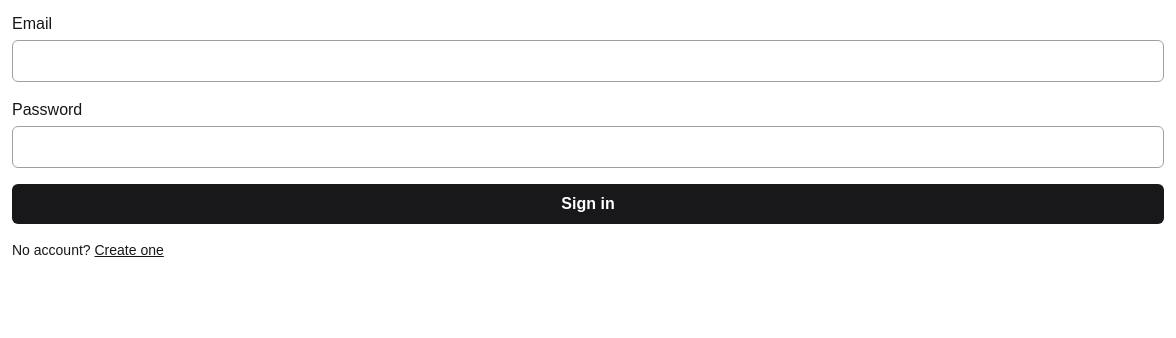
Test case: LoginForm › shows a friendly per-network message when rate limited
Type "ada@example.com" into the field labelled "Email" at (588, 61), box [12,40,1164,82]
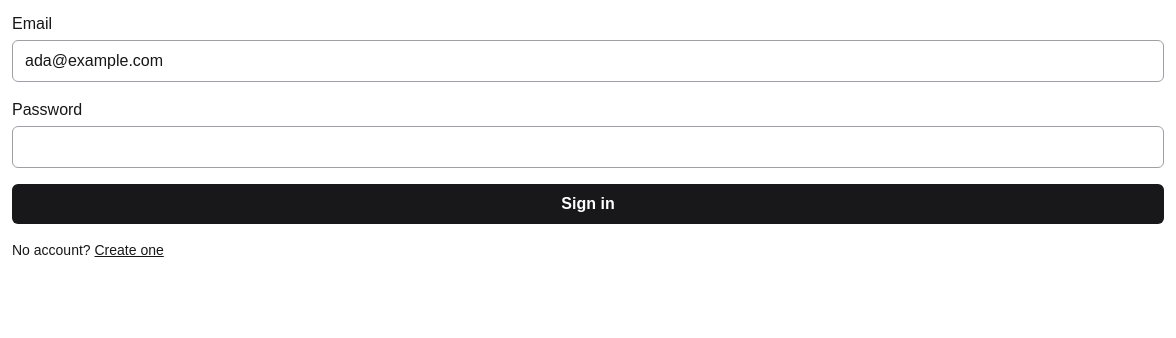
Type "wrong-password-1" into the password field labelled "Password" at (588, 147), box [12,126,1164,168]
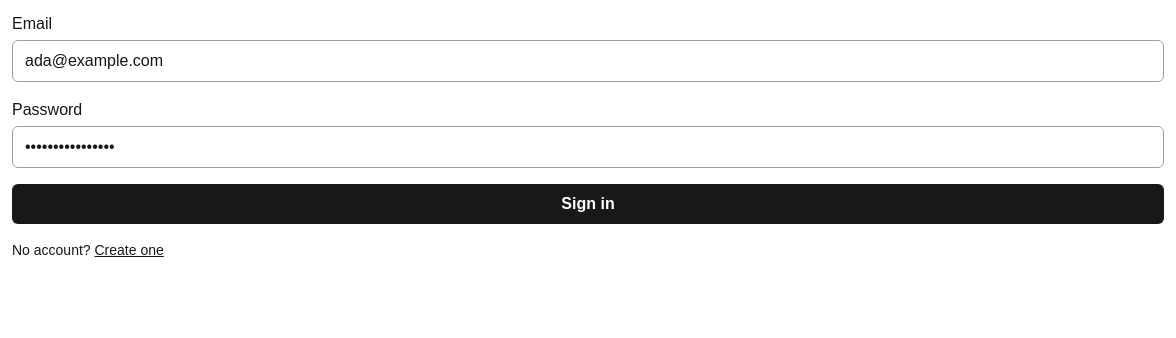
Click the button "Sign in" at (588, 204), box [12,184,1164,224]
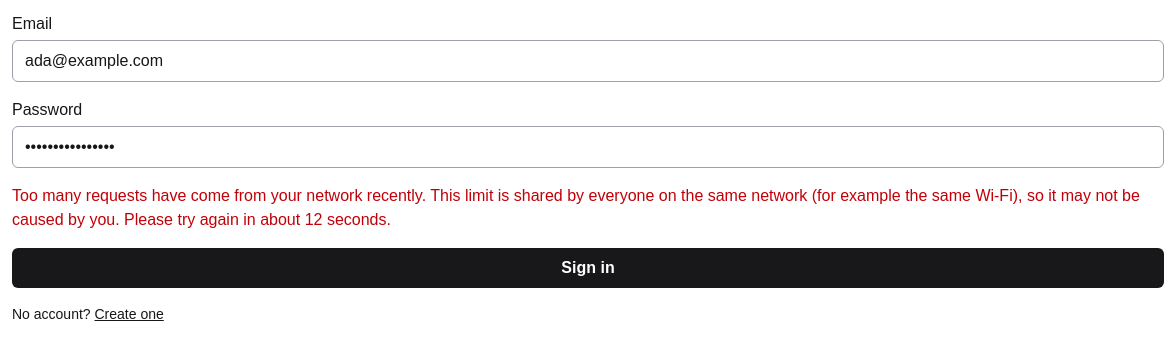
Check: the message shows "shared by everyone on the same network", box [12,187,1140,228]
Check: the message shows "try again in about 12 seconds", box [12,187,1140,228]
